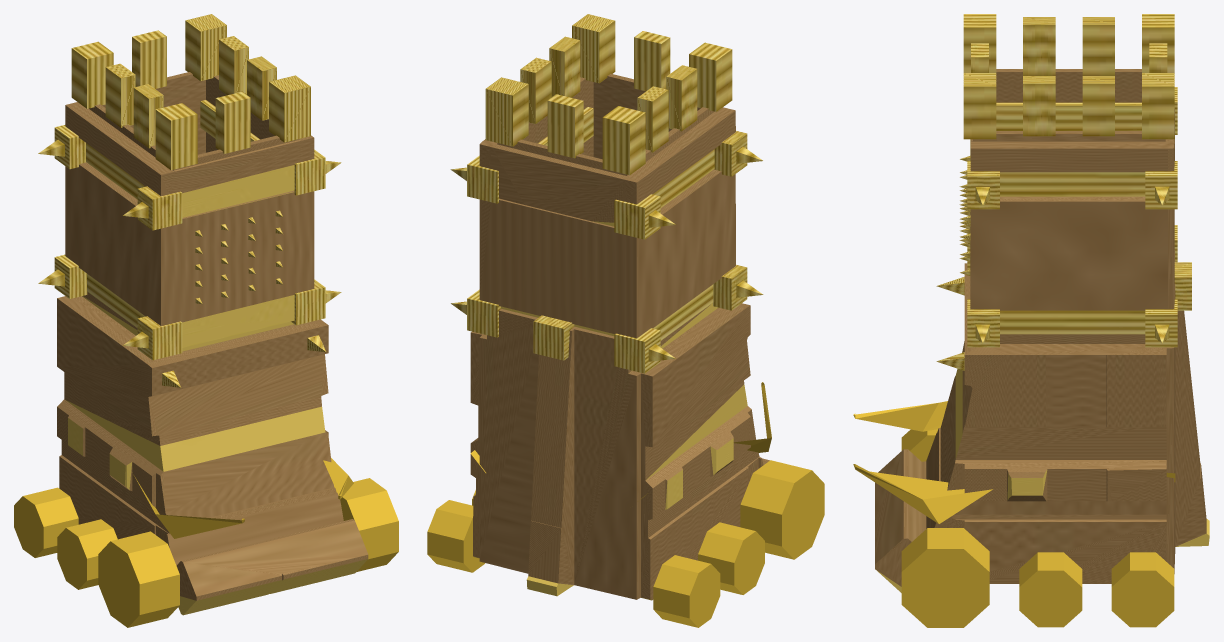
The model's file is ae_siege_tower_open_royal_lod0.glb.
The picture shows the model from 3 angles, left to right: view 1: azimuth 30°, elevation 25°; view 2: azimuth 150°, elevation 25°; view 3: azimuth 270°, elevation 25°; orthographic projection. The views are drawn at different scales.
Parts seen in each view (by area): view 1: siege_tower_open; view 2: siege_tower_open; view 3: siege_tower_open.
Part boxes in pixels (left/top/right/bottom): siege_tower_open: left=14, top=14, right=398, bottom=627; siege_tower_open: left=427, top=14, right=824, bottom=627; siege_tower_open: left=853, top=14, right=1209, bottom=627.
Size of the model in its own units: 46.39 by 82.22 by 51.97.
Materials: 4 (3 with a texture image).
